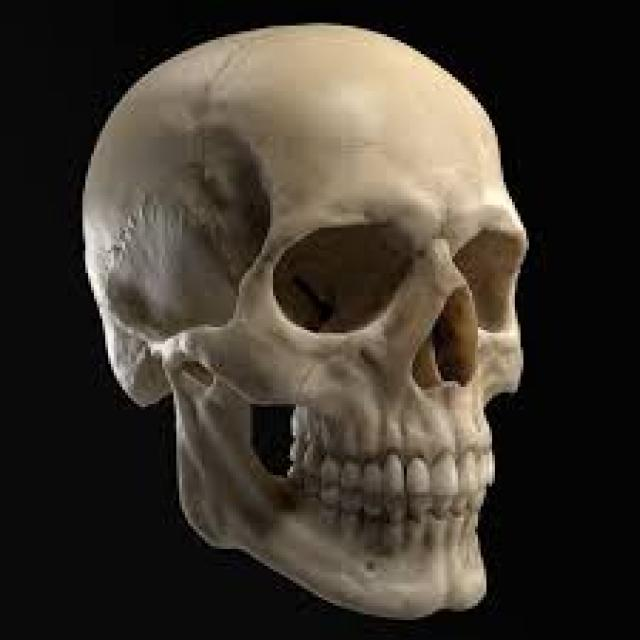skull: (57, 0, 560, 640)
